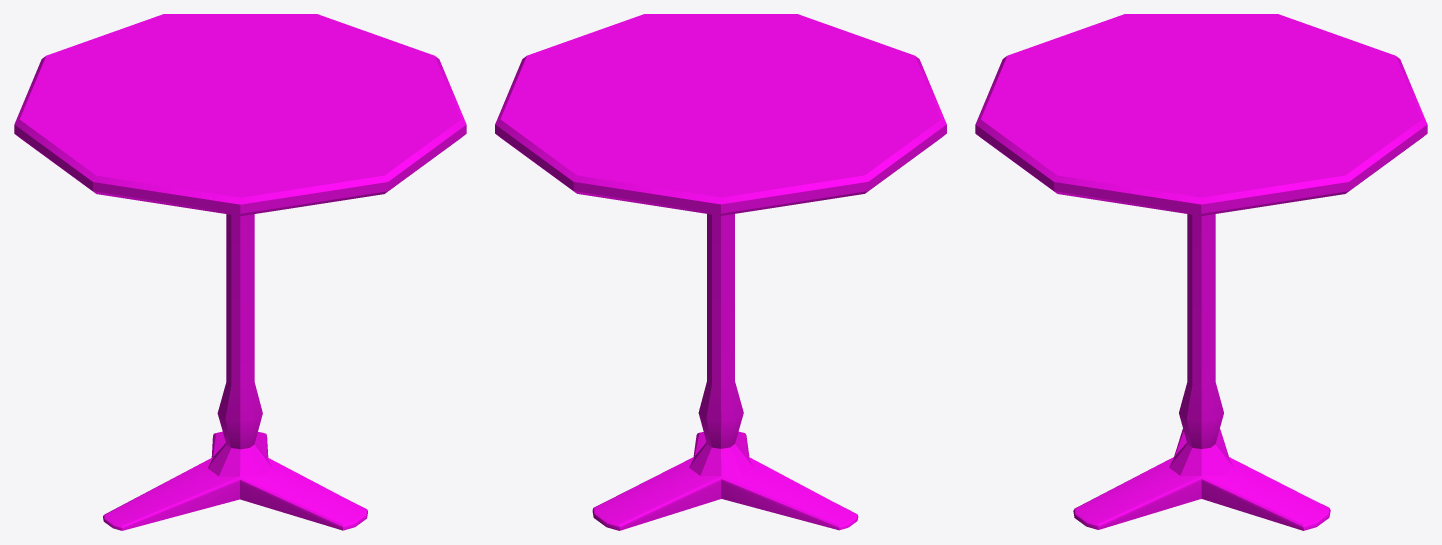
Rendered from table 2 var 1.fbx.
3 renders of one model, left to right at view 1: azimuth 30°, elevation 25°; view 2: azimuth 150°, elevation 25°; view 3: azimuth 270°, elevation 25°, orthographic.
Parts seen in each view (by area): view 1: table_2_var_1; view 2: table_2_var_1; view 3: table_2_var_1.
Boxes of the visible parts, bbox=[...] form: table_2_var_1: bbox=[14, 14, 466, 530]; table_2_var_1: bbox=[495, 14, 946, 530]; table_2_var_1: bbox=[975, 14, 1427, 530].
Bounding box in the file's own units: 0.7288 × 0.7048 × 0.7401.
